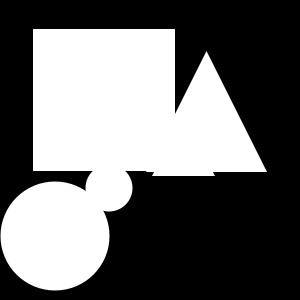circle: (33, 29, 175, 171)
rectangle: (0, 182, 110, 290), (86, 164, 132, 212)
triangle: (146, 51, 267, 172), (152, 113, 215, 176)
